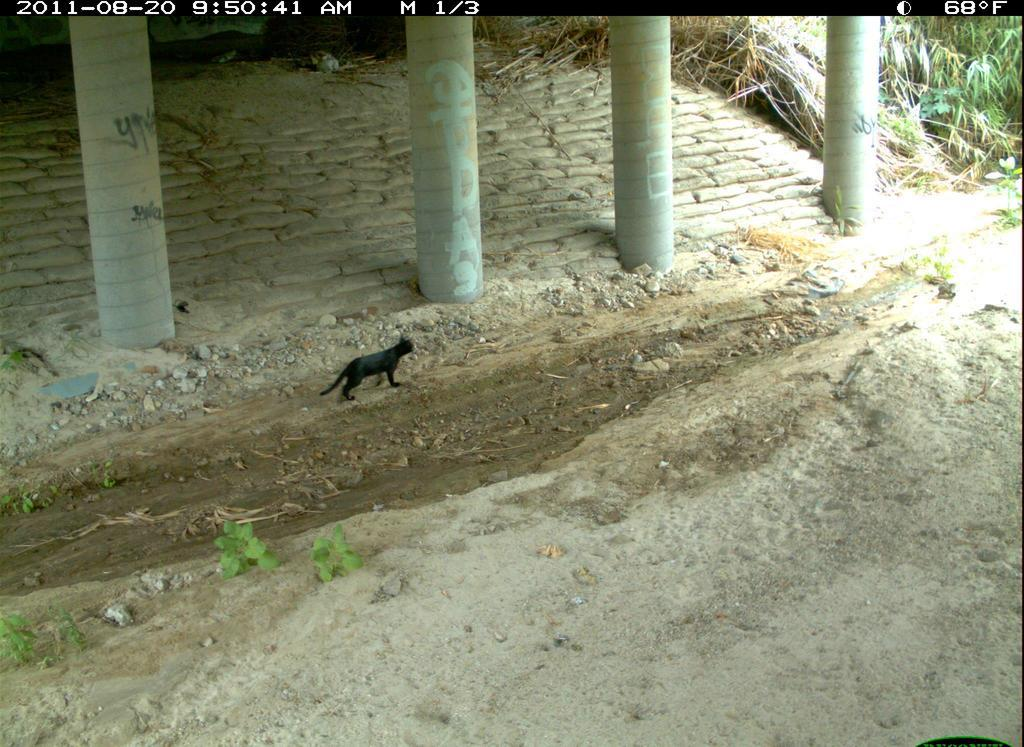cat: (625, 658, 842, 747)
